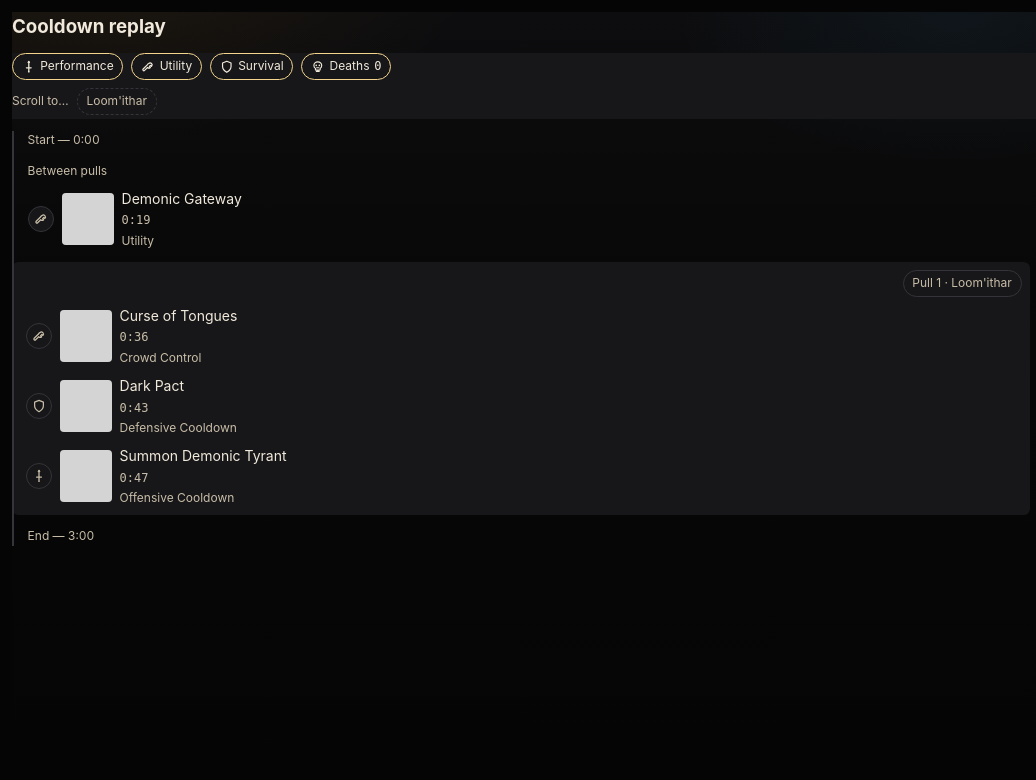
Scenario: CooldownReplayTimeline › renders glyphs, SpellWowIcon, pull groups, and filters events not lanes
expect the list with test id "cooldown-vertical-axis" is shown: met, box x1=12 y1=131 x2=1035 y2=546
Click the button with test id "cooldown-filter-P": {"x": 68, "y": 66} x1=12 y1=53 x2=124 y2=80
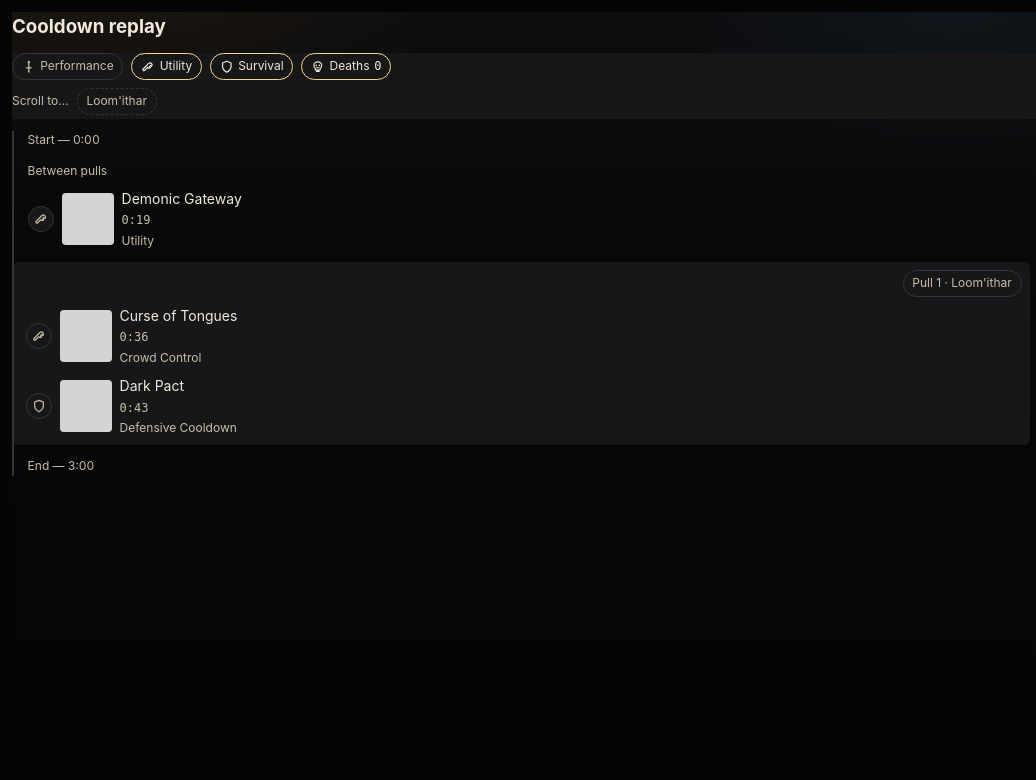
expect the list item with test id "cooldown-pull-1" is shown: met, box x1=12 y1=262 x2=1030 y2=445
expect the text "Summon Demonic Tyrant" is gone: met
